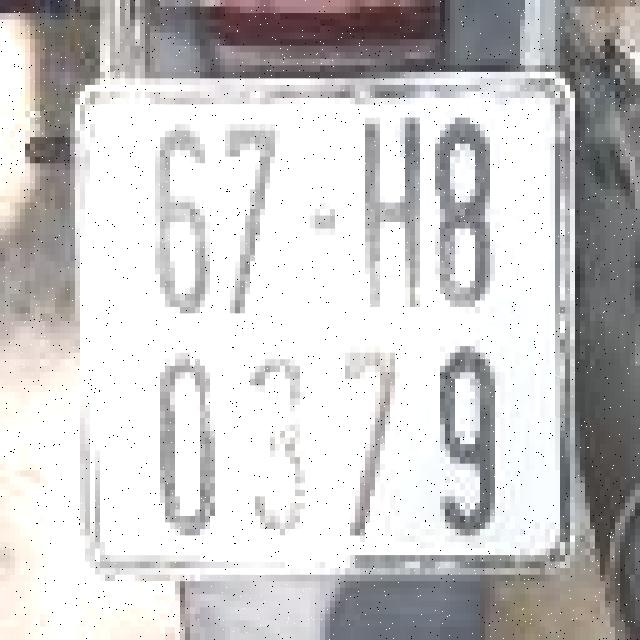0: (148, 349, 228, 539)
3: (248, 346, 308, 542)
6: (142, 111, 218, 320)
7: (215, 108, 280, 323), (332, 340, 398, 548)
8: (432, 104, 502, 320)
9: (422, 333, 508, 542)
H: (355, 111, 425, 313)
